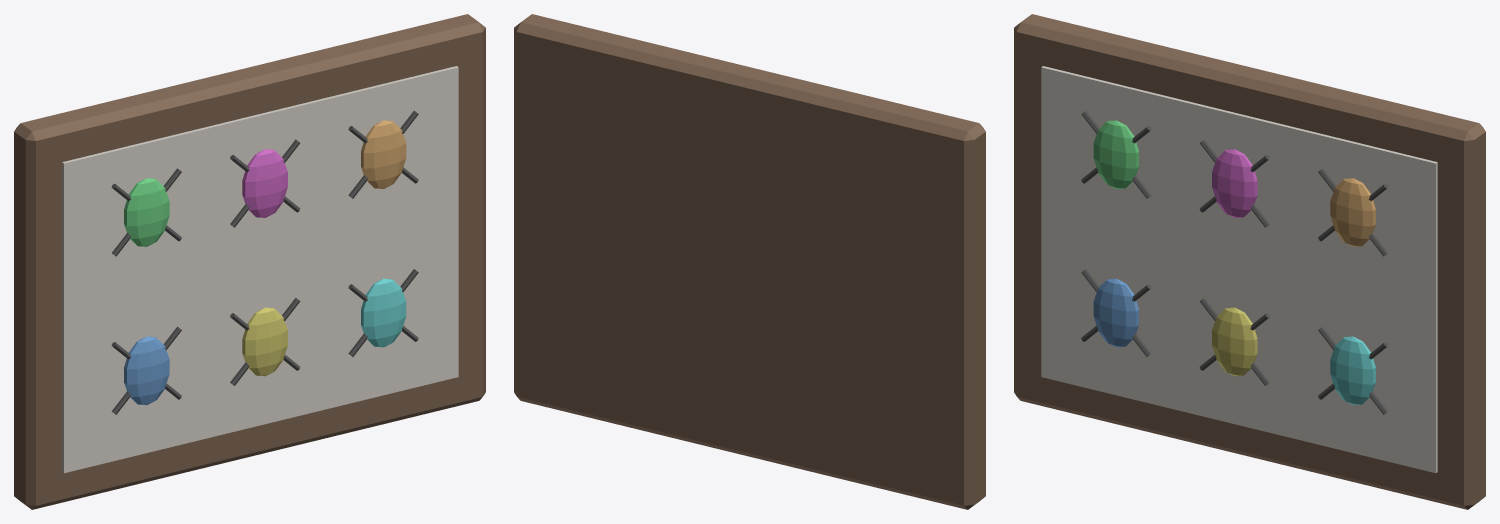
File: BugSpecimenFrame.fbx
3 renders of one model, left to right at view 1: azimuth 30°, elevation 25°; view 2: azimuth 150°, elevation 25°; view 3: azimuth 330°, elevation 25°, orthographic.
Visible parts, largest first — view 1: Prop_BugSpecimenFrame; view 2: Prop_BugSpecimenFrame; view 3: Prop_BugSpecimenFrame.
Part boxes in pixels (x1,y1,x2,y2): Prop_BugSpecimenFrame: (14,14,485,509); Prop_BugSpecimenFrame: (514,14,985,509); Prop_BugSpecimenFrame: (1014,14,1485,509).
Size of the model in its own units: 0.7 by 0.55 by 0.0767.
